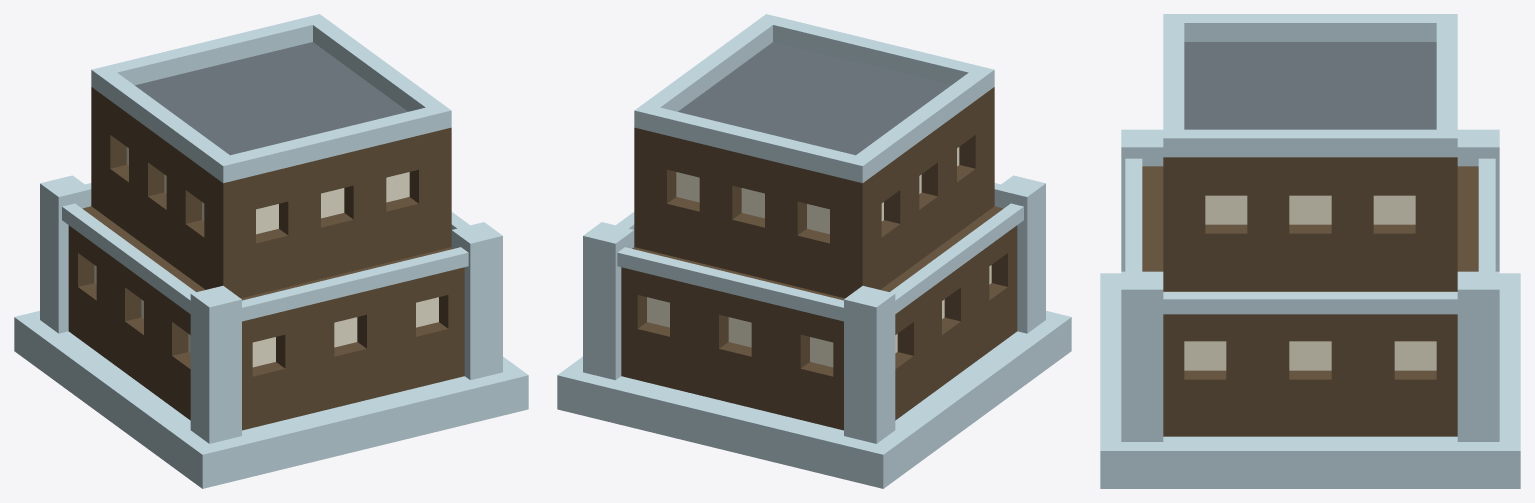
File: Building_6_Base (Brown).obj
3 renders of one model, left to right at view 1: azimuth 30°, elevation 25°; view 2: azimuth 150°, elevation 25°; view 3: azimuth 270°, elevation 25°, orthographic. The views are drawn at different scales.
Parts seen in each view (by area): view 1: Building_6_Base_(Brown); view 2: Building_6_Base_(Brown); view 3: Building_6_Base_(Brown).
Boxes of the visible parts, left/top/right/bottom form: Building_6_Base_(Brown): left=14, top=14, right=528, bottom=488; Building_6_Base_(Brown): left=557, top=14, right=1071, bottom=488; Building_6_Base_(Brown): left=1100, top=14, right=1520, bottom=488.
Size of the model in its own units: 2 by 1.7 by 2.
